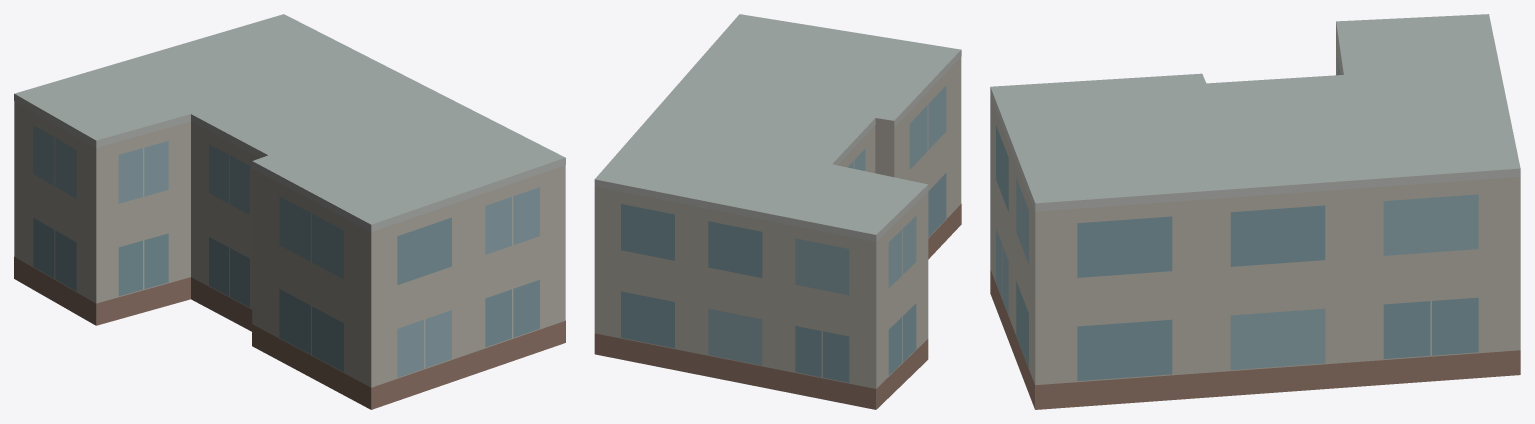
The model's file is survey-upis-33014718.glb.
3 renders of one model, left to right at view 1: azimuth 30°, elevation 25°; view 2: azimuth 150°, elevation 25°; view 3: azimuth 270°, elevation 25°, orthographic. The views are drawn at different scales.
Parts seen in each view (by area): view 1: survey-upis-33014718.tmp; view 2: survey-upis-33014718.tmp; view 3: survey-upis-33014718.tmp.
Part boxes in pixels (x1,y1,x2,y2): survey-upis-33014718.tmp: (14, 14, 565, 409); survey-upis-33014718.tmp: (594, 14, 961, 409); survey-upis-33014718.tmp: (990, 14, 1520, 409).
Bounding box in the file's own units: 12.01 × 6.1 × 14.21.
